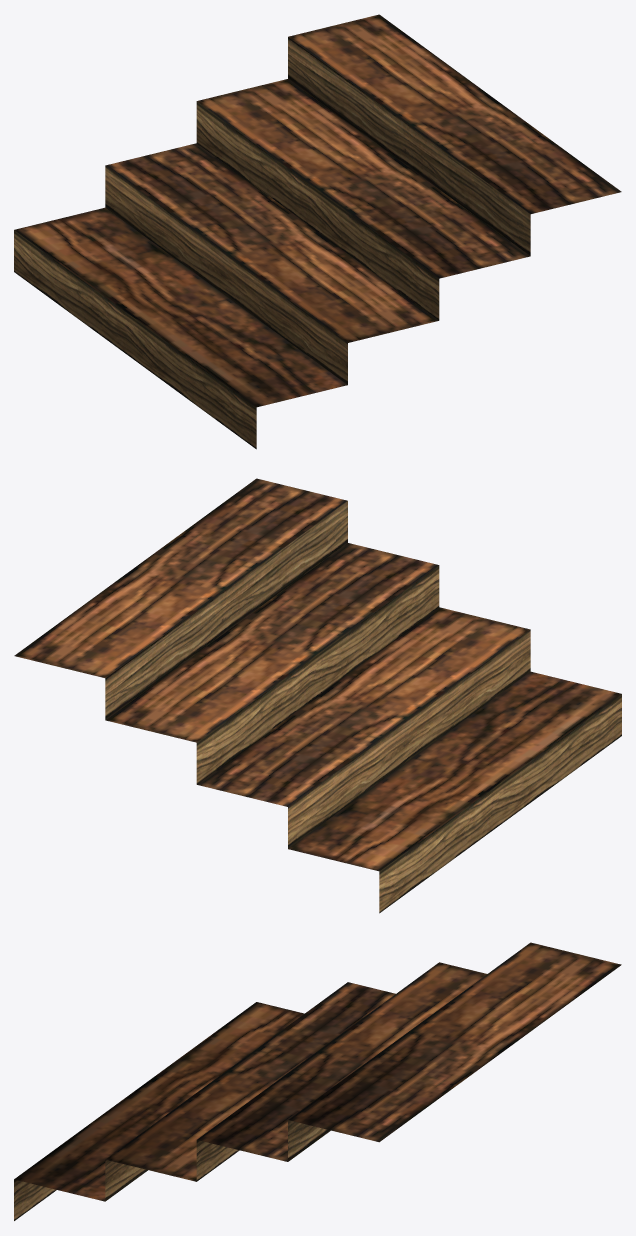
File: LAKETOWN_EXTERIOR_PS_LT_STEP_11.fbx
3 views of the same model, one above another, from view 1: azimuth 30°, elevation 25°; view 2: azimuth 150°, elevation 25°; view 3: azimuth 330°, elevation 25° (orthographic).
Visible parts, largest first — view 1: LAKETOWN_EXTERIOR_PS_LT_STEP_11; view 2: LAKETOWN_EXTERIOR_PS_LT_STEP_11; view 3: LAKETOWN_EXTERIOR_PS_LT_STEP_11.
Boxes of the visible parts, bbox=[...] form: LAKETOWN_EXTERIOR_PS_LT_STEP_11: bbox=[14, 14, 621, 449]; LAKETOWN_EXTERIOR_PS_LT_STEP_11: bbox=[14, 478, 621, 913]; LAKETOWN_EXTERIOR_PS_LT_STEP_11: bbox=[14, 942, 621, 1220].
Bounding box in the file's own units: 20000 × 8804 × 22995.
2 materials, 2 textured.
